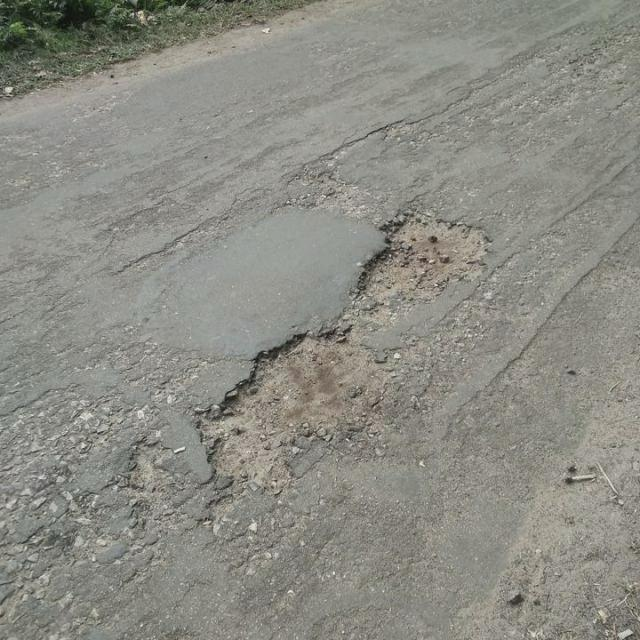Pothole: (198, 326, 401, 485), (347, 204, 500, 312), (125, 442, 176, 495)
